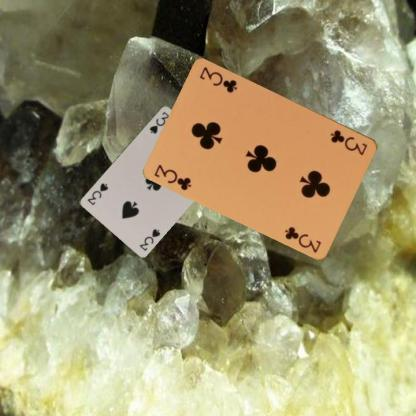3c: (152, 161, 193, 192), (328, 127, 369, 156)
3s: (147, 108, 171, 134), (137, 226, 161, 252)
